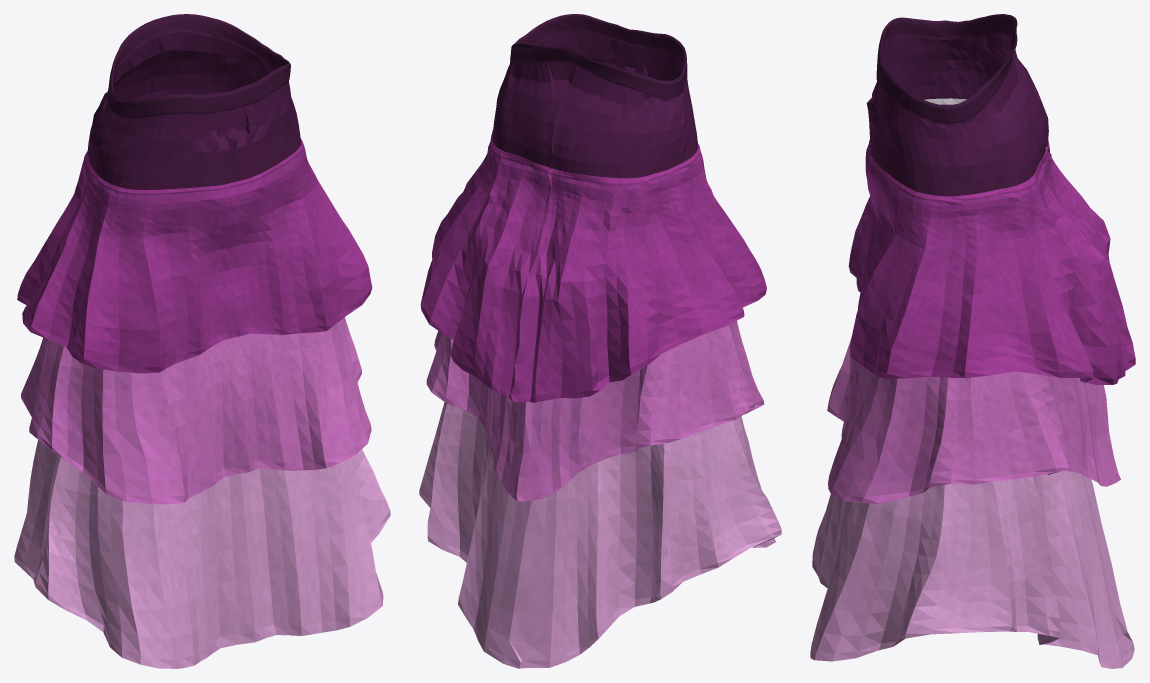
The model's file is mhw_toigo_tiered_skirt.glb.
The picture shows the model from 3 angles, left to right: view 1: azimuth 30°, elevation 25°; view 2: azimuth 150°, elevation 25°; view 3: azimuth 270°, elevation 25°; orthographic projection. The views are drawn at different scales.
Visible parts, largest first — view 1: mhw_toigo_tiered_skirt; view 2: mhw_toigo_tiered_skirt; view 3: mhw_toigo_tiered_skirt.
Boxes of the visible parts, x1,y1,x2,y2 form: mhw_toigo_tiered_skirt: (14, 14, 390, 668); mhw_toigo_tiered_skirt: (419, 14, 781, 668); mhw_toigo_tiered_skirt: (810, 14, 1135, 668).
Size of the model in its own units: 0.6241 by 1.04 by 0.4888.
Materials: 1 (1 with a texture image).
